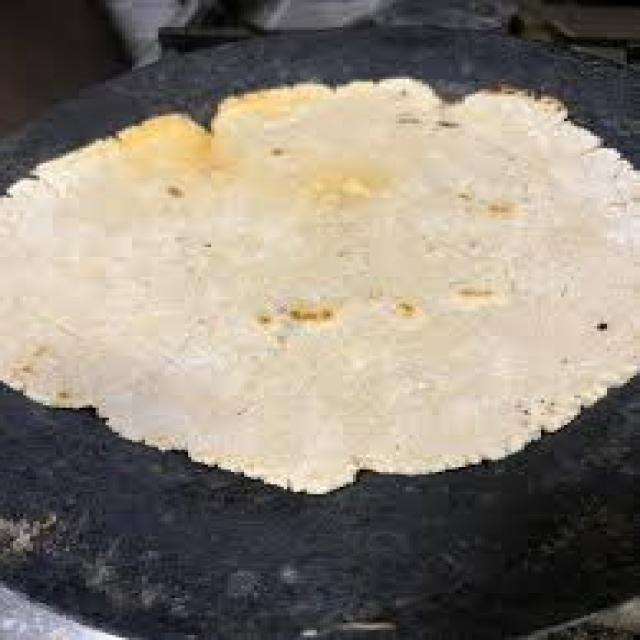RICE BHAKRI: (0, 74, 637, 484)
